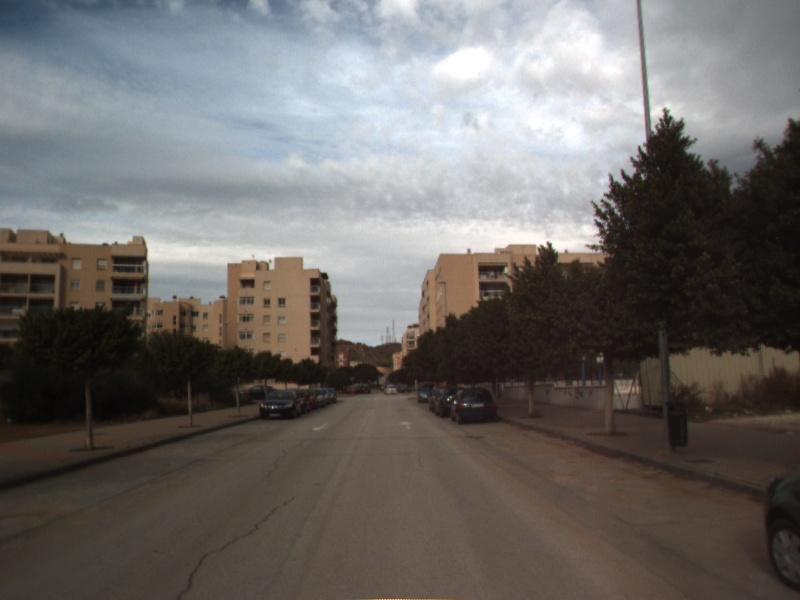STRAIGHT: (396, 419, 416, 432)
